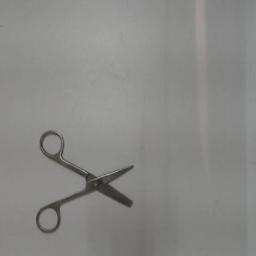Dressing Scissors: (32, 123, 142, 239)
